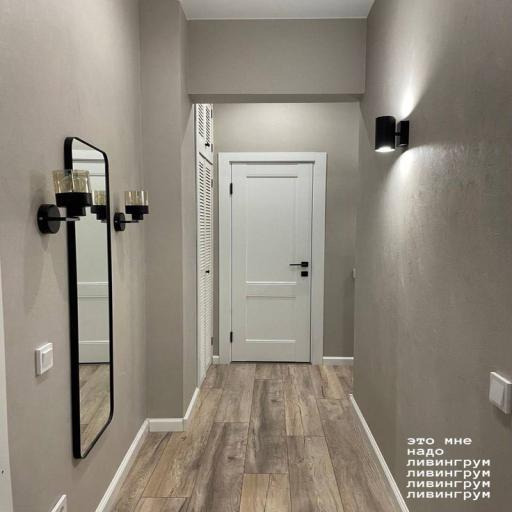corridor: (210, 147, 331, 370)
curb: (0, 0, 512, 512)
